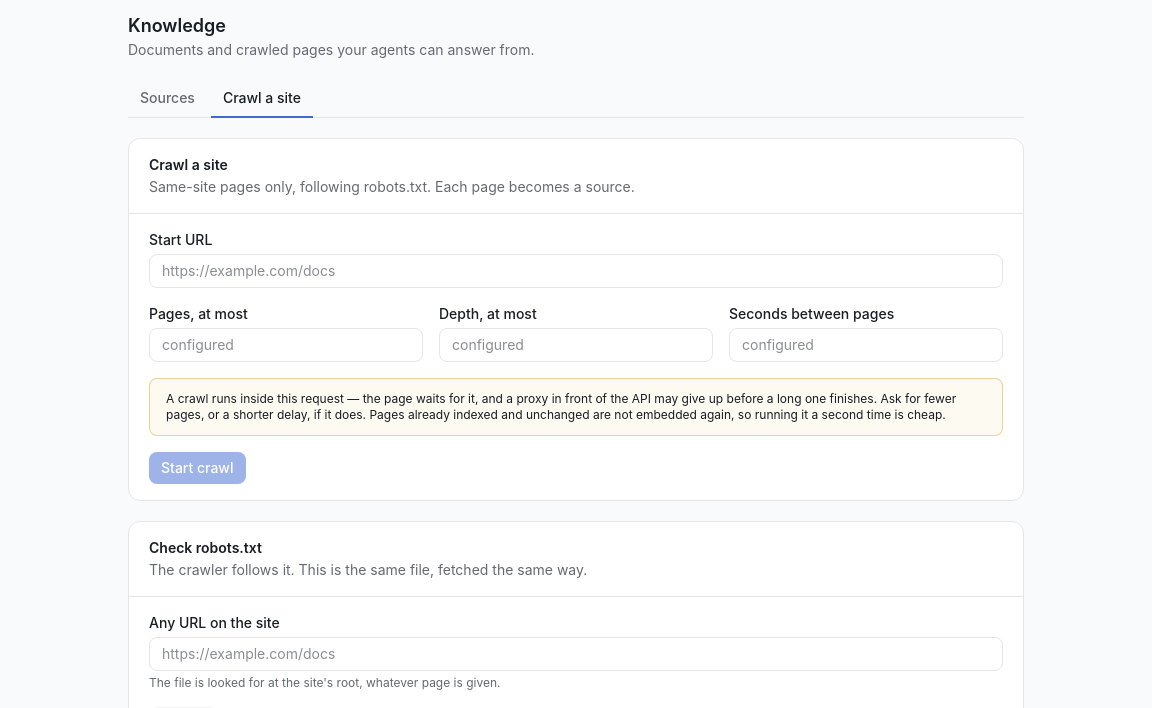
Scenario: the crawl report › says whether the site had rules at all
The image size is (1152, 708).
Type "https://acme.test/docs" into the field labelled "Start URL". click: point(576, 271)
box: [149,254,1003,288]
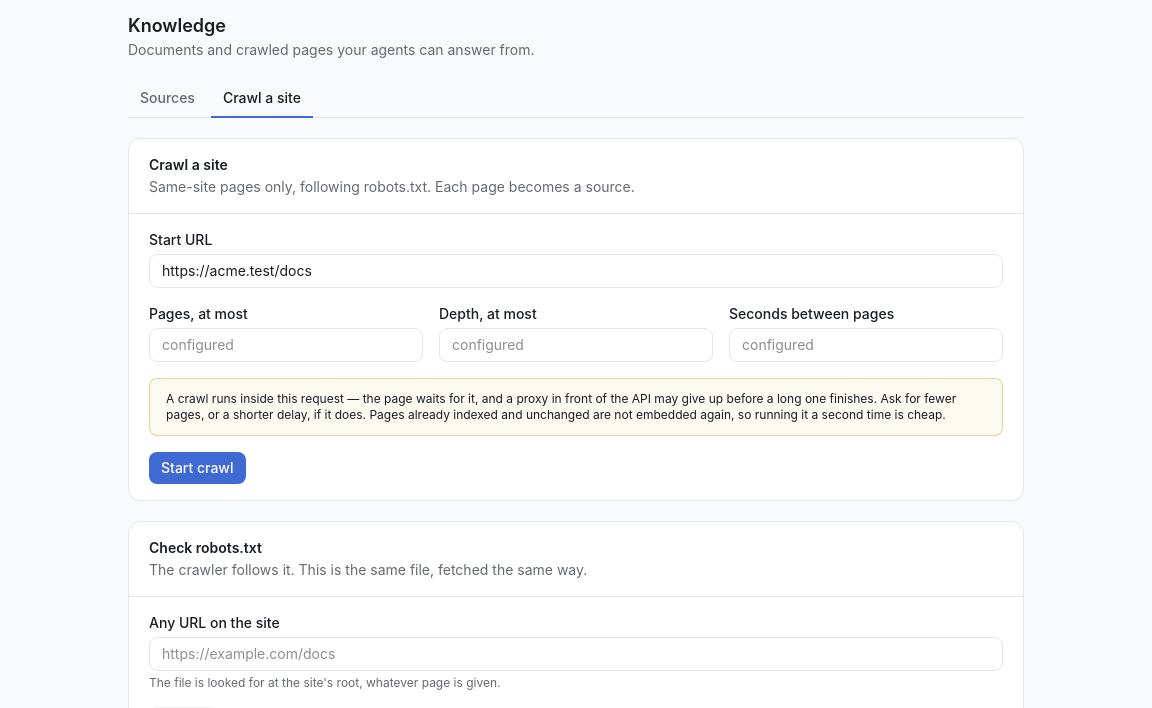
Click the button "Start crawl". click: point(197, 468)
box: [149,452,246,484]
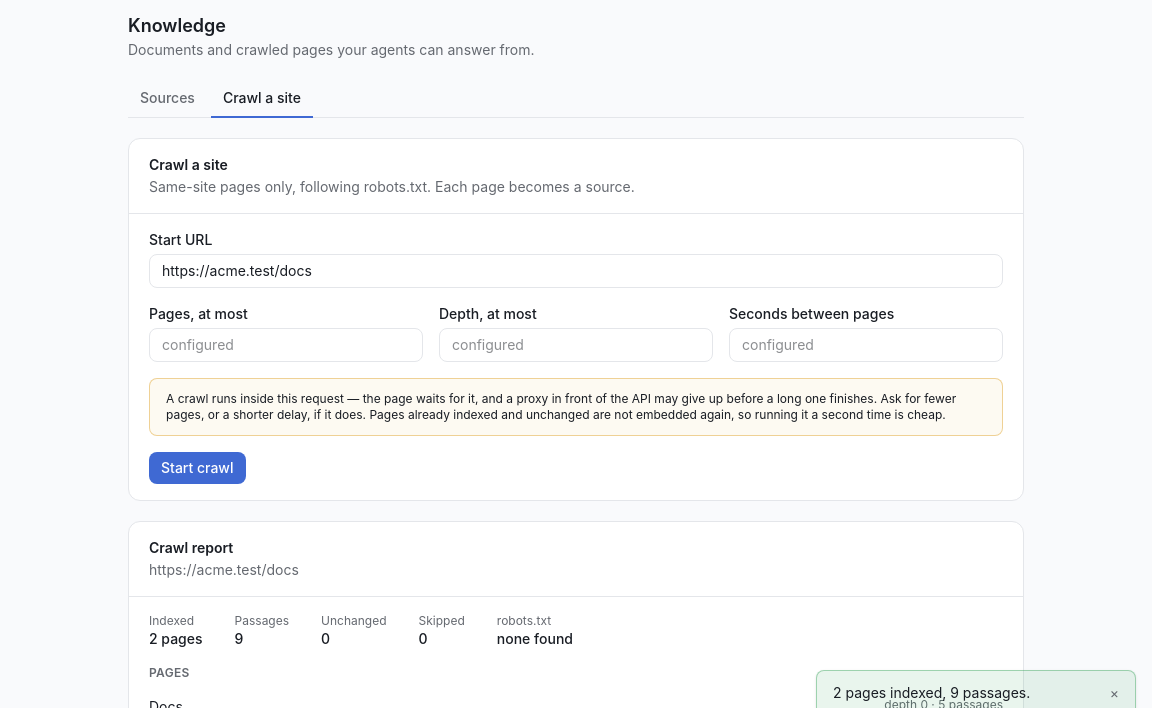
Expected: the text "none found" is shown, [497,629,573,649]
